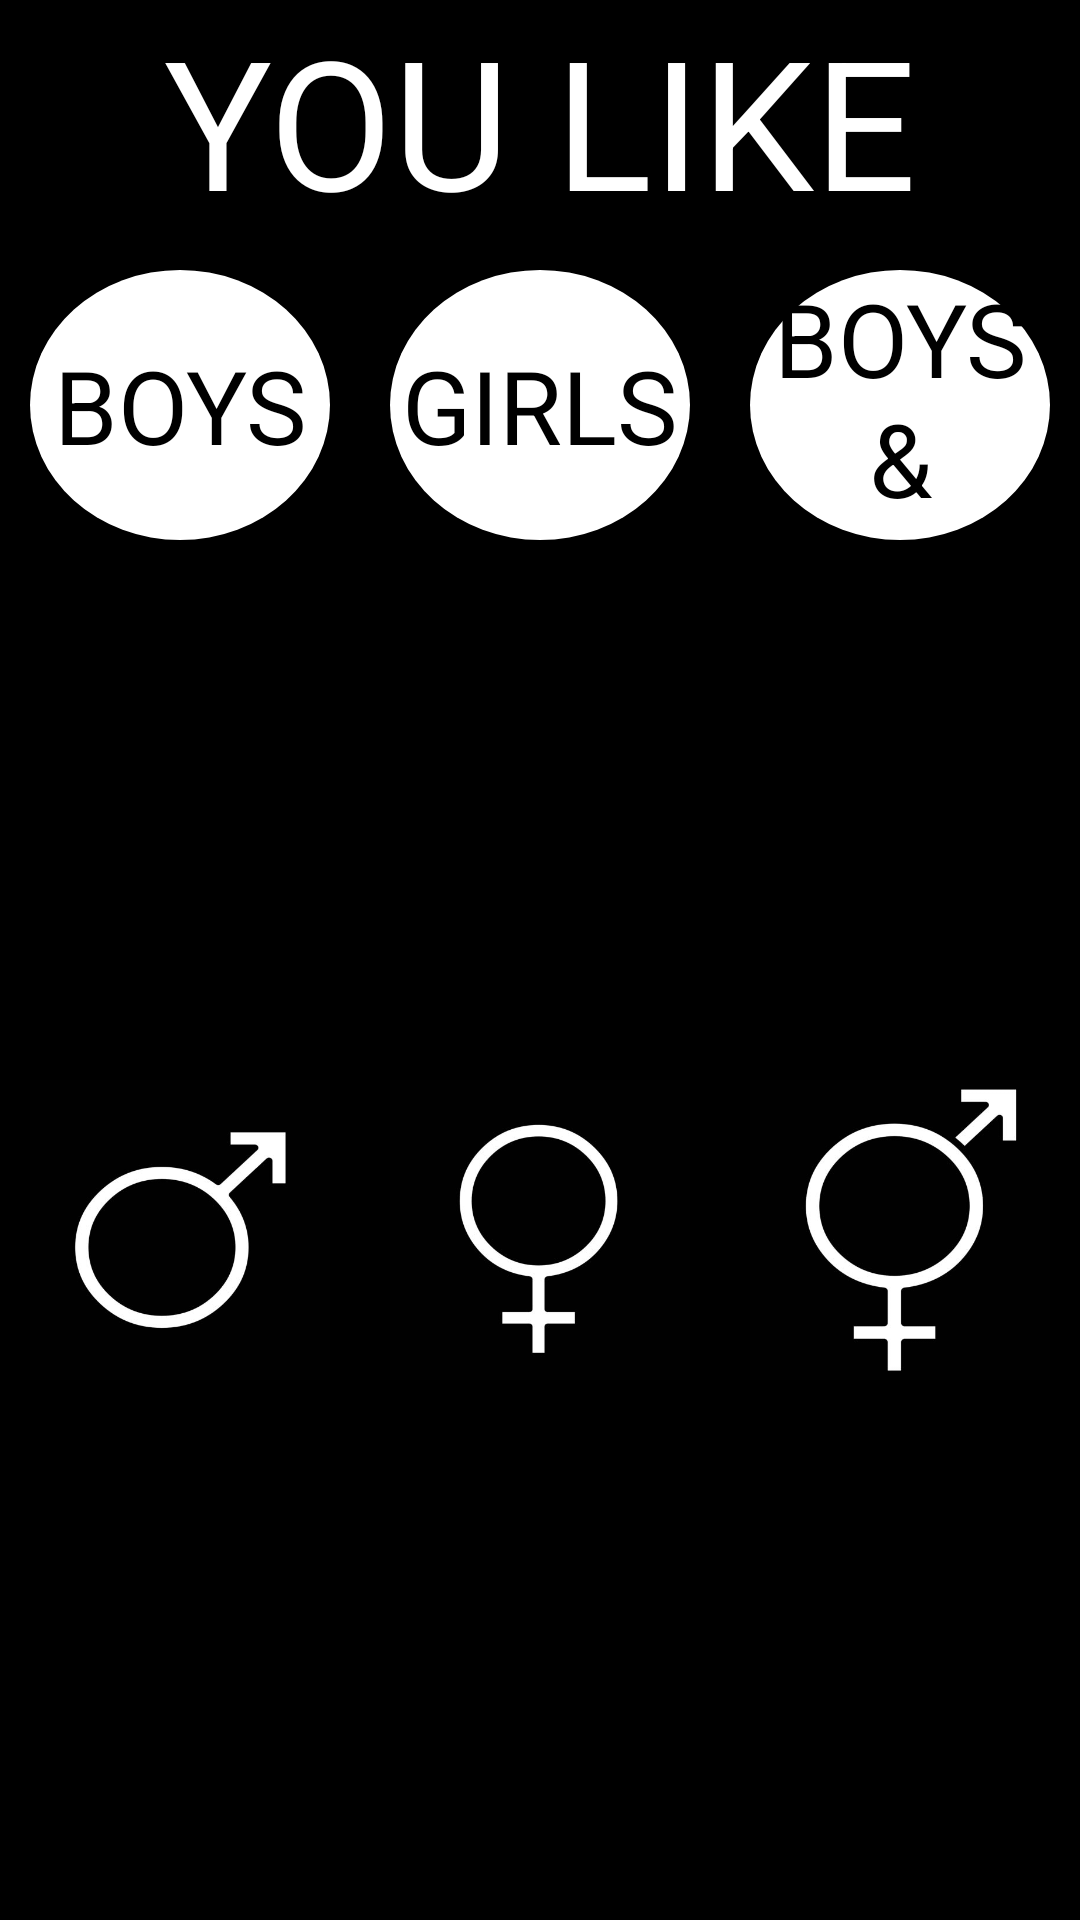

Icon click points for this 1080px x 1920px phone screenshot, format (x=x, y=y):
both: (x=911, y=1230)
female: (x=538, y=1238)
male: (x=180, y=1230)
